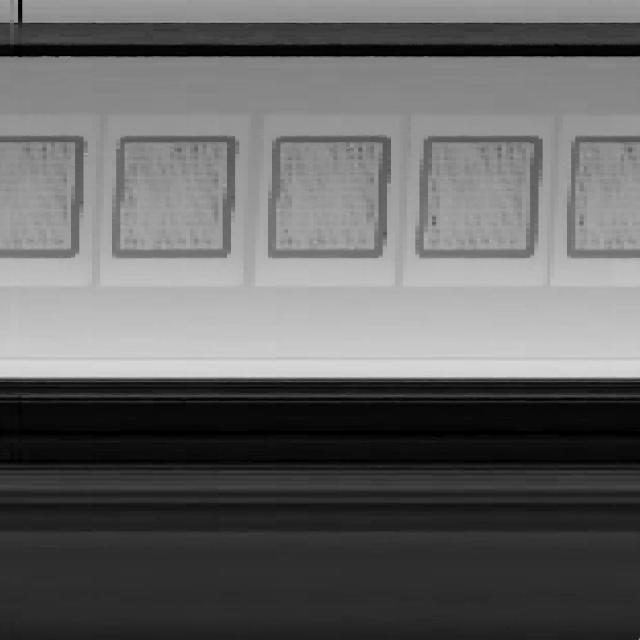air_filter: (406, 125, 548, 266), (108, 124, 244, 265), (260, 132, 394, 268), (0, 130, 91, 268), (565, 132, 640, 266)
